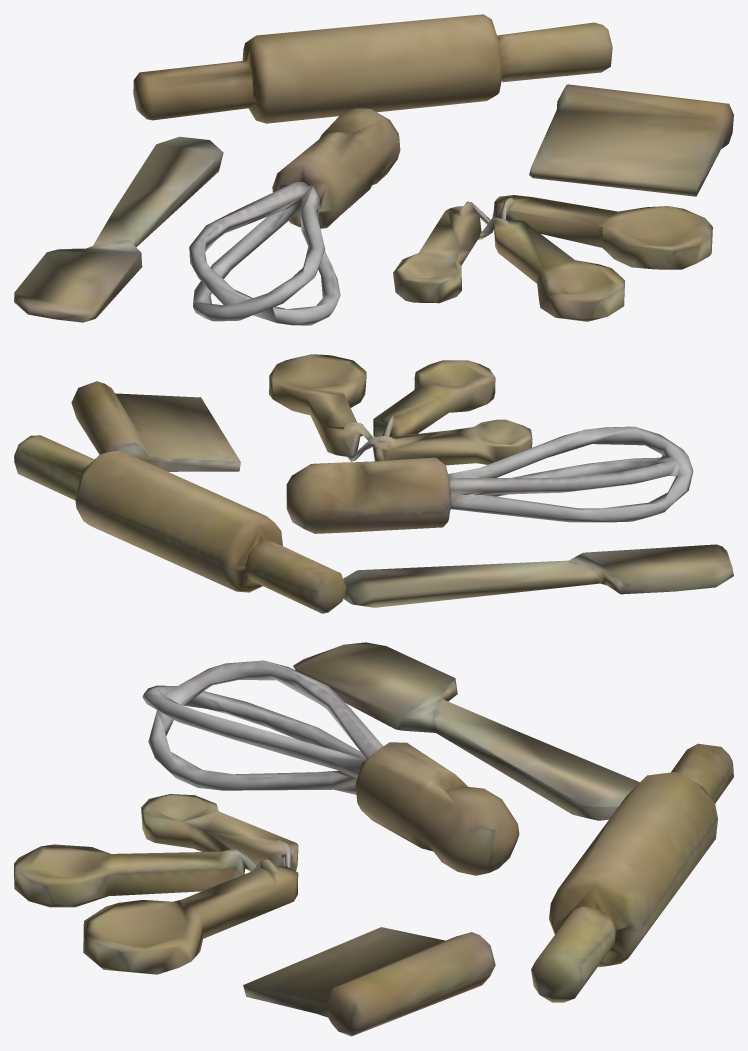
File: BAKING_UTENSILS-medium.glb
3 views of the same model, one above another, from view 1: azimuth 30°, elevation 25°; view 2: azimuth 150°, elevation 25°; view 3: azimuth 270°, elevation 25° (orthographic). The views are drawn at different scales.
Visible parts, largest first — view 1: BAKING_UTENSILS; view 2: BAKING_UTENSILS; view 3: BAKING_UTENSILS.
Part boxes in pixels (<box>): BAKING_UTENSILS: <box>14,14,733,325</box>; BAKING_UTENSILS: <box>14,354,733,613</box>; BAKING_UTENSILS: <box>14,642,733,1036</box>.
Size of the model in its own units: 0.3255 by 0.0356 by 0.2538.
Materials: 1 (1 with a texture image).
